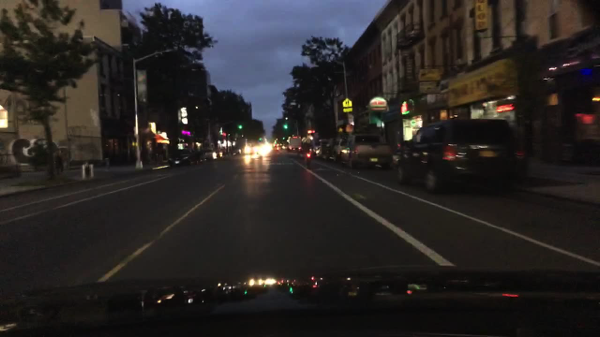car: (393, 118, 528, 188), (346, 133, 394, 171), (169, 146, 196, 168), (335, 137, 355, 164), (322, 139, 337, 160), (198, 149, 216, 161), (313, 140, 323, 157), (243, 144, 259, 154), (231, 147, 243, 155), (259, 144, 272, 151), (216, 149, 226, 157), (272, 143, 282, 150)
motor: (297, 152, 311, 168)
person: (301, 136, 312, 152), (55, 150, 63, 172)
traffic light: (237, 124, 243, 130), (283, 124, 289, 129)
traffic sign: (342, 98, 351, 107), (343, 109, 352, 112)
truck: (286, 137, 301, 150)
